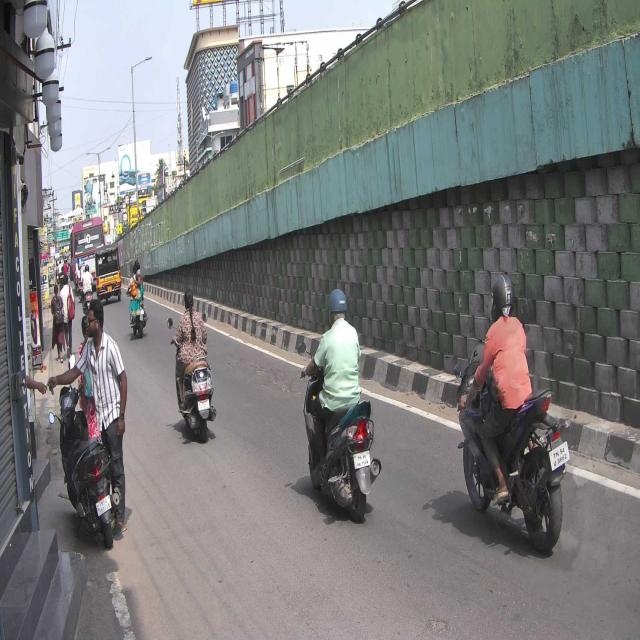single_rider: (456, 272, 564, 552), (299, 285, 382, 522), (168, 284, 219, 440)
